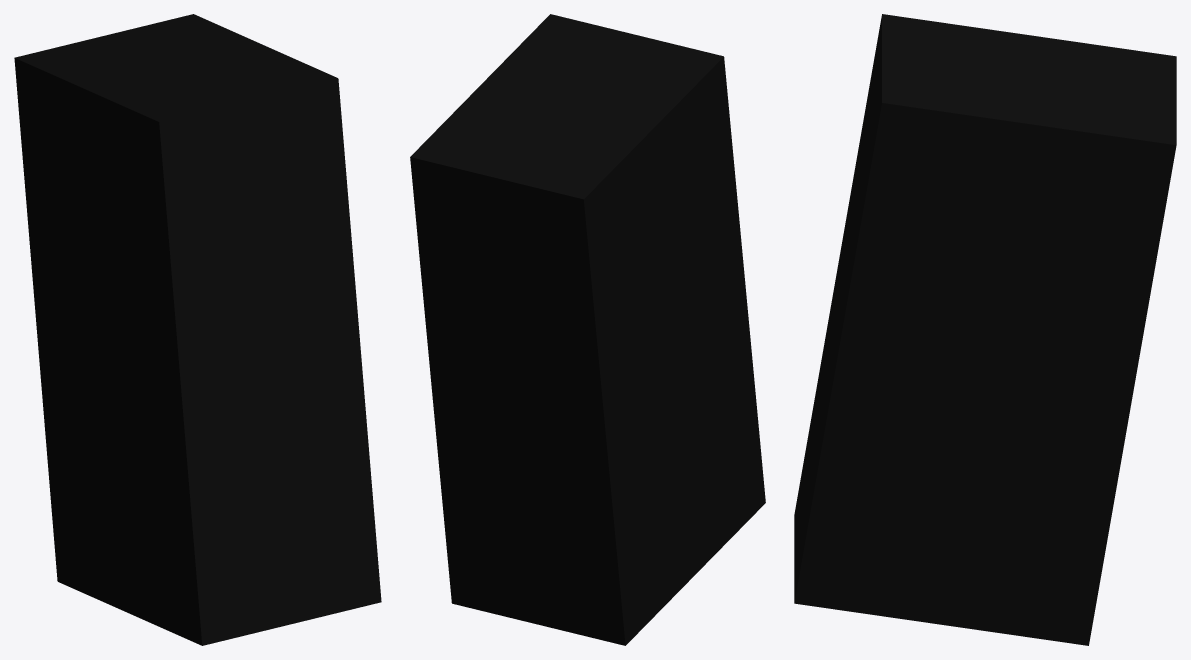
File: frame__wheel_stub_1.glb
The picture shows the model from 3 angles, left to right: view 1: azimuth 30°, elevation 25°; view 2: azimuth 150°, elevation 25°; view 3: azimuth 270°, elevation 25°; orthographic projection. The views are drawn at different scales.
Visible parts, largest first — view 1: world; view 2: world; view 3: world.
Part boxes in pixels (x1,y1,x2,y2): world: (14, 14, 381, 645); world: (410, 14, 765, 645); world: (794, 14, 1176, 645).
Size of the model in its own units: 0.024 by 0.0683 by 0.0436.
1 material, 1 textured.
